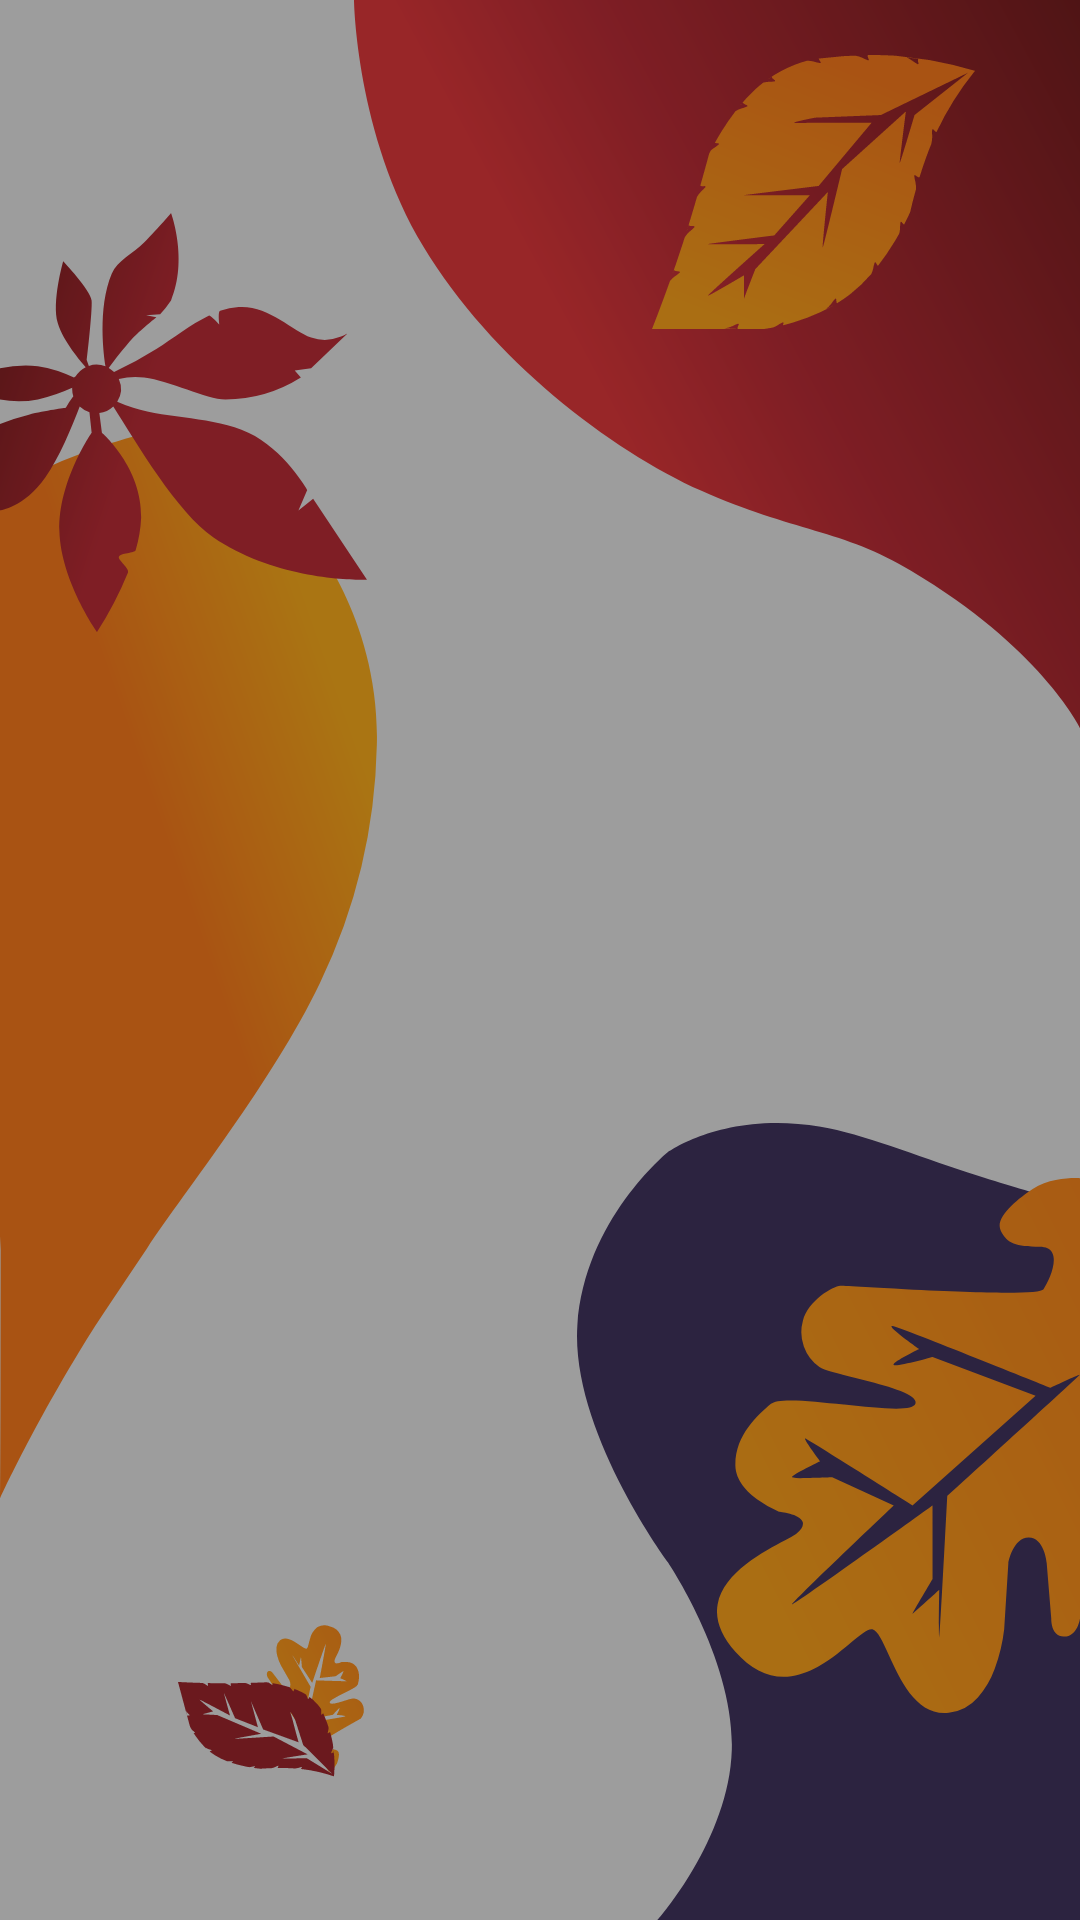

Point at icon controls on the screen. Image size 1080 × 1920, points as (x,y).
ui top end leaf: (813,192)
